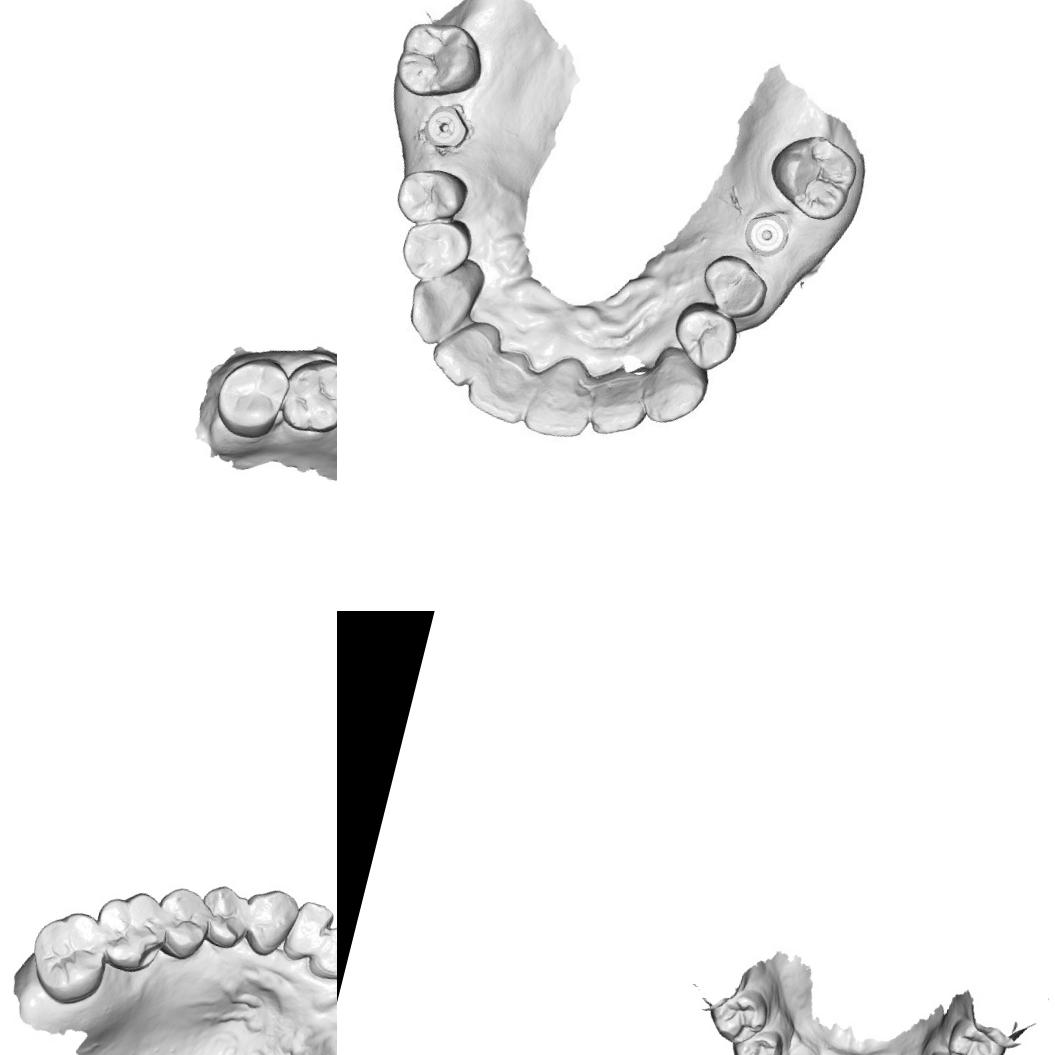canine: (396, 247, 492, 356), (636, 341, 712, 431), (234, 881, 304, 963)
implant: (728, 200, 800, 268)
implant_plus: (418, 98, 474, 156)
incisor: (522, 344, 602, 440), (458, 334, 544, 422), (586, 360, 655, 437), (432, 312, 500, 387), (282, 895, 337, 965), (308, 914, 337, 990)
molar: (757, 118, 867, 230), (20, 900, 118, 1012), (390, 10, 492, 109), (84, 880, 176, 980), (206, 345, 294, 446), (273, 349, 337, 441)
premolar: (146, 882, 217, 966), (697, 250, 773, 322), (396, 210, 474, 280), (701, 979, 774, 1051), (671, 299, 744, 370), (191, 878, 255, 955), (390, 168, 460, 226), (941, 1015, 1011, 1055), (725, 1021, 787, 1055)
